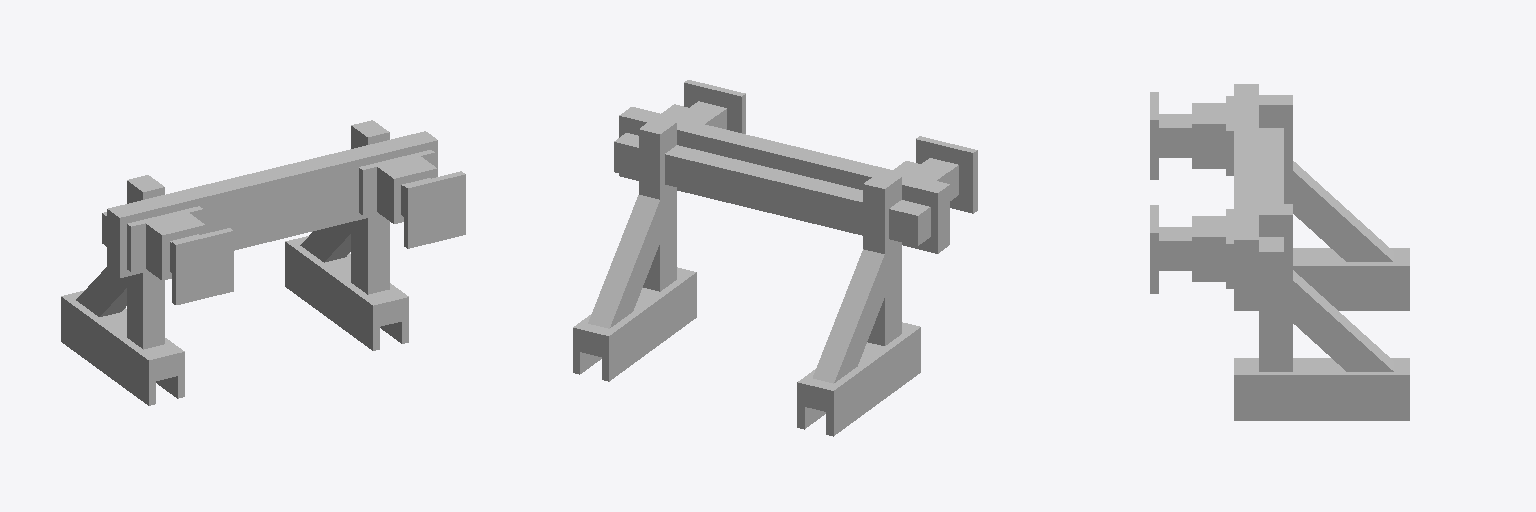
Rendered from buffer_stop_short_support.obj.
The picture shows the model from 3 angles: view 1: azimuth 30°, elevation 25°; view 2: azimuth 150°, elevation 25°; view 3: azimuth 270°, elevation 25°; orthographic projection.
Visible parts, largest first — view 1: cube.019, cube.012, cube.016, cube.022, cube.026, cube.021, cube.009, cube.014, cube.020, cube.025, cube.029, cube.015 (+7 smaller); view 2: cube.001, cube, cube.016, cube.012, cube.015, cube.010, cube.014, cube.009, cube.019, cube.021, cube.020, cube.026 (+8 smaller); view 3: cube.011, cube.017, cube.009, cube.010, cube.015, cube.020, cube.025, cube.029, cube.014, cube, cube.023, cube.027 (+9 smaller).
Part boxes in pixels (left/top/right/bottom): cube.019: left=209, top=156, right=336, bottom=250; cube.012: left=285, top=240, right=379, bottom=350; cube.016: left=61, top=295, right=155, bottom=405; cube.022: left=404, top=171, right=465, bottom=248; cube.026: left=172, top=228, right=233, bottom=304; cube.021: left=107, top=184, right=220, bottom=277; cube.009: left=351, top=120, right=389, bottom=294; cube.014: left=127, top=175, right=164, bottom=349; cube.020: left=325, top=131, right=437, bottom=224; cube.025: left=377, top=156, right=436, bottom=223; cube.029: left=146, top=213, right=205, bottom=280; cube.015: left=76, top=267, right=126, bottom=316; cube.001: left=766, top=170, right=930, bottom=245; cube: left=614, top=133, right=777, bottom=208; cube.016: left=826, top=325, right=920, bottom=436; cube.012: left=602, top=270, right=696, bottom=381; cube.015: left=813, top=249, right=884, bottom=383; cube.010: left=588, top=195, right=659, bottom=328; cube.014: left=863, top=172, right=901, bottom=345; cube.009: left=639, top=117, right=676, bottom=291; cube.019: left=721, top=131, right=848, bottom=228; cube.021: left=836, top=160, right=949, bottom=253; cube.020: left=619, top=107, right=732, bottom=200; cube.026: left=916, top=136, right=977, bottom=213; cube.011: left=1234, top=372, right=1409, bottom=420; cube.017: left=1234, top=262, right=1409, bottom=310; cube.009: left=1259, top=204, right=1292, bottom=371; cube.010: left=1293, top=270, right=1393, bottom=371; cube.015: left=1293, top=161, right=1393, bottom=261; cube.020: left=1234, top=190, right=1258, bottom=300; cube.025: left=1192, top=216, right=1225, bottom=281; cube.029: left=1192, top=103, right=1225, bottom=168; cube.014: left=1259, top=95, right=1292, bottom=203; cube: left=1259, top=177, right=1283, bottom=281; cube.023: left=1159, top=227, right=1191, bottom=270; cube.027: left=1159, top=114, right=1191, bottom=157.
Size of the model in its own units: 2.75 by 1.67 by 1.94.